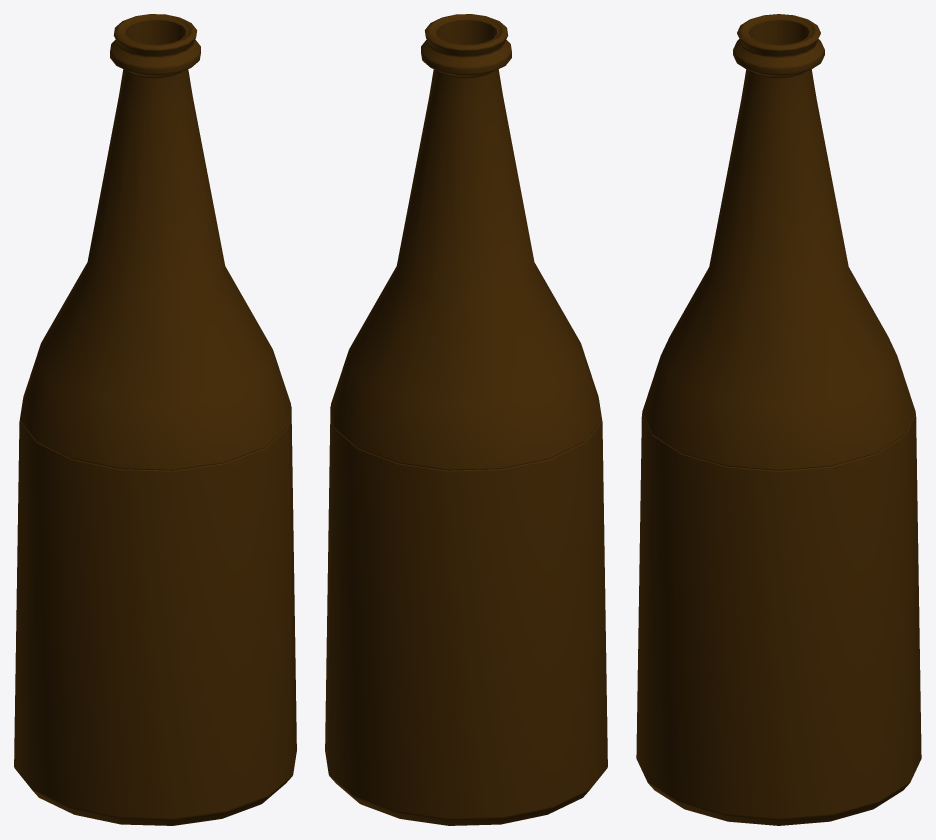
Rendered from B.Prop_bottle_02.fbx.
The picture shows the model from 3 angles, left to right: view 1: azimuth 30°, elevation 25°; view 2: azimuth 150°, elevation 25°; view 3: azimuth 270°, elevation 25°; orthographic projection.
Visible parts, largest first — view 1: Cylinder.001; view 2: Cylinder.001; view 3: Cylinder.001.
Boxes of the visible parts, x1=… form: Cylinder.001: x1=14, y1=14, x2=296, y2=825; Cylinder.001: x1=325, y1=14, x2=607, y2=825; Cylinder.001: x1=636, y1=14, x2=921, y2=825.
Bounding box in the file's own units: 208 × 601 × 208.
1 material, 1 textured.
